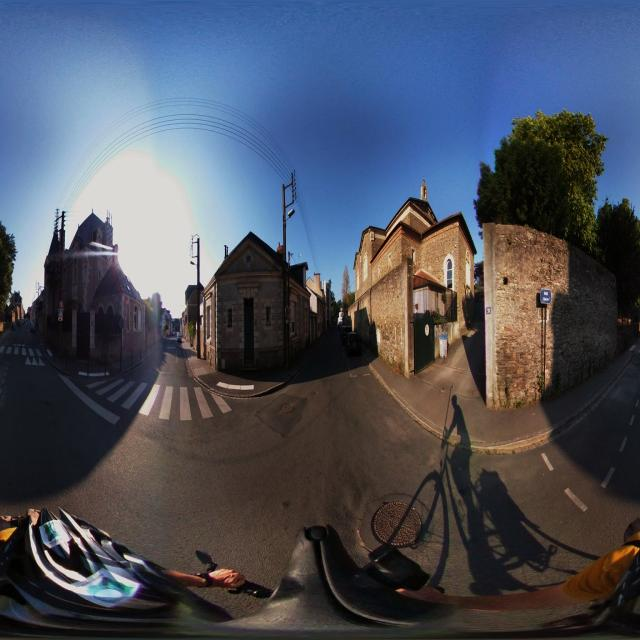car: (346, 331, 361, 356), (341, 323, 352, 342)
